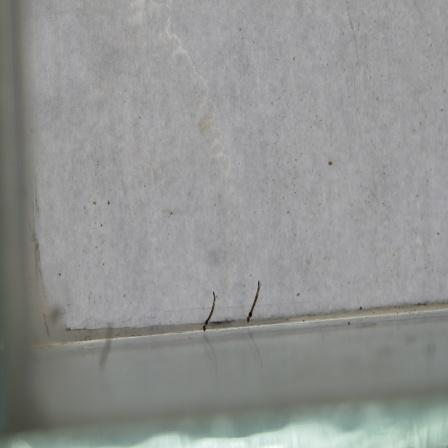Jentik-Nyamuk: (241, 274, 263, 324), (198, 287, 220, 334)
